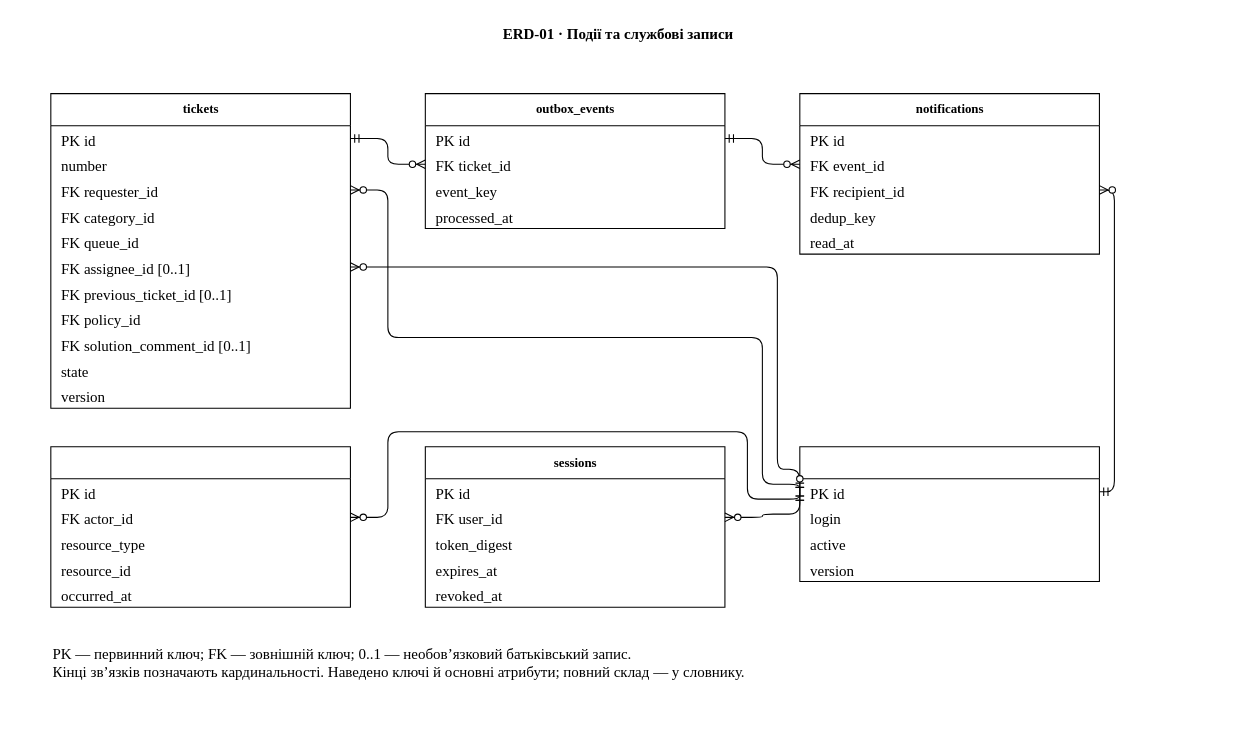
The diagram is 1235 pixels wide and 753 high, and some of its shapes have lost their labels. The box of each missing label's shape, as (x1, y1, x2, y2) in pixels:
admin_events: (50, 446, 350, 607)
users: (799, 446, 1099, 582)
